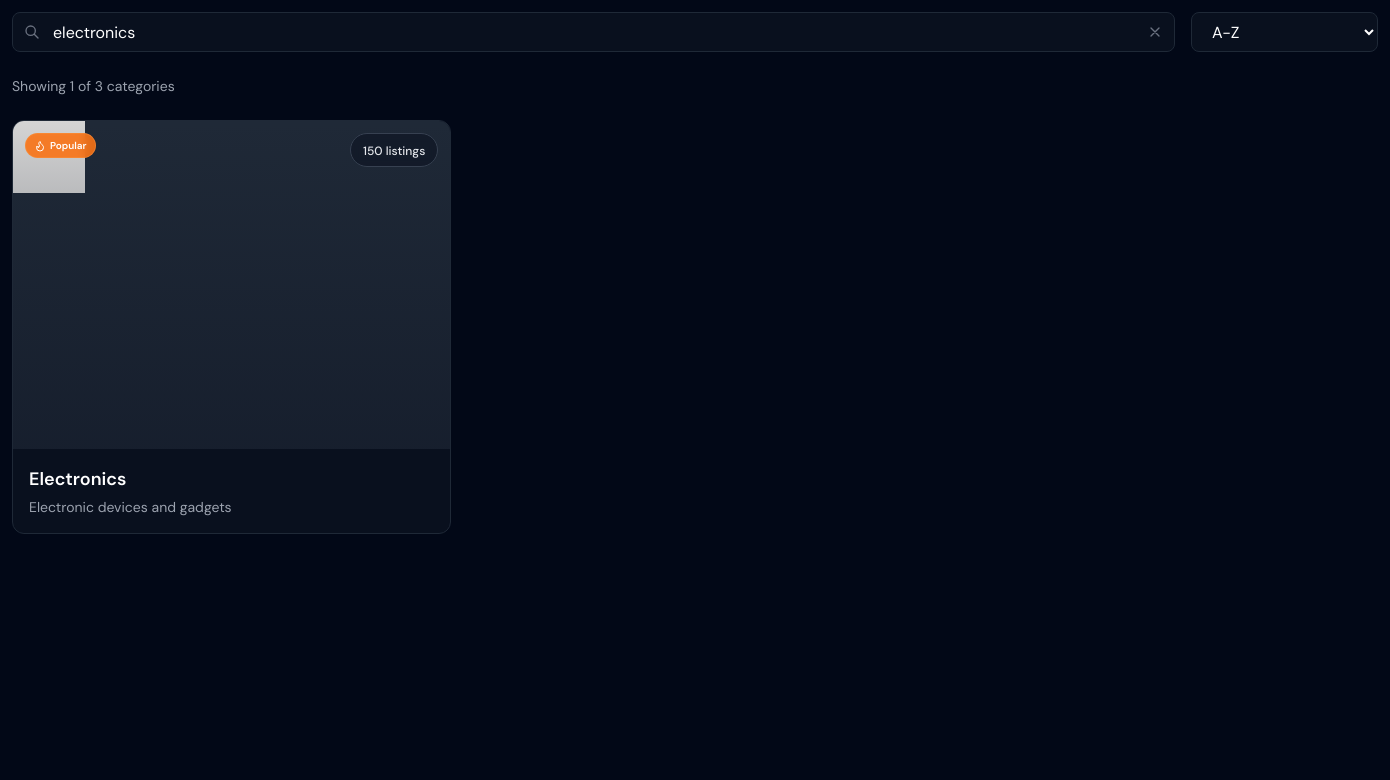
Test: URL State Management Integration Tests › CategoryGrid - Built-in Search and Sort › should clear search and show all categories
Expected: the heading "Electronics" is shown, 29,467 -> 126,491
Expected: the text "Fashion" is not shown
Note: Clear button should be visible
Click the button named "clear search" at (1155, 32), box 1147,24 -> 1163,40
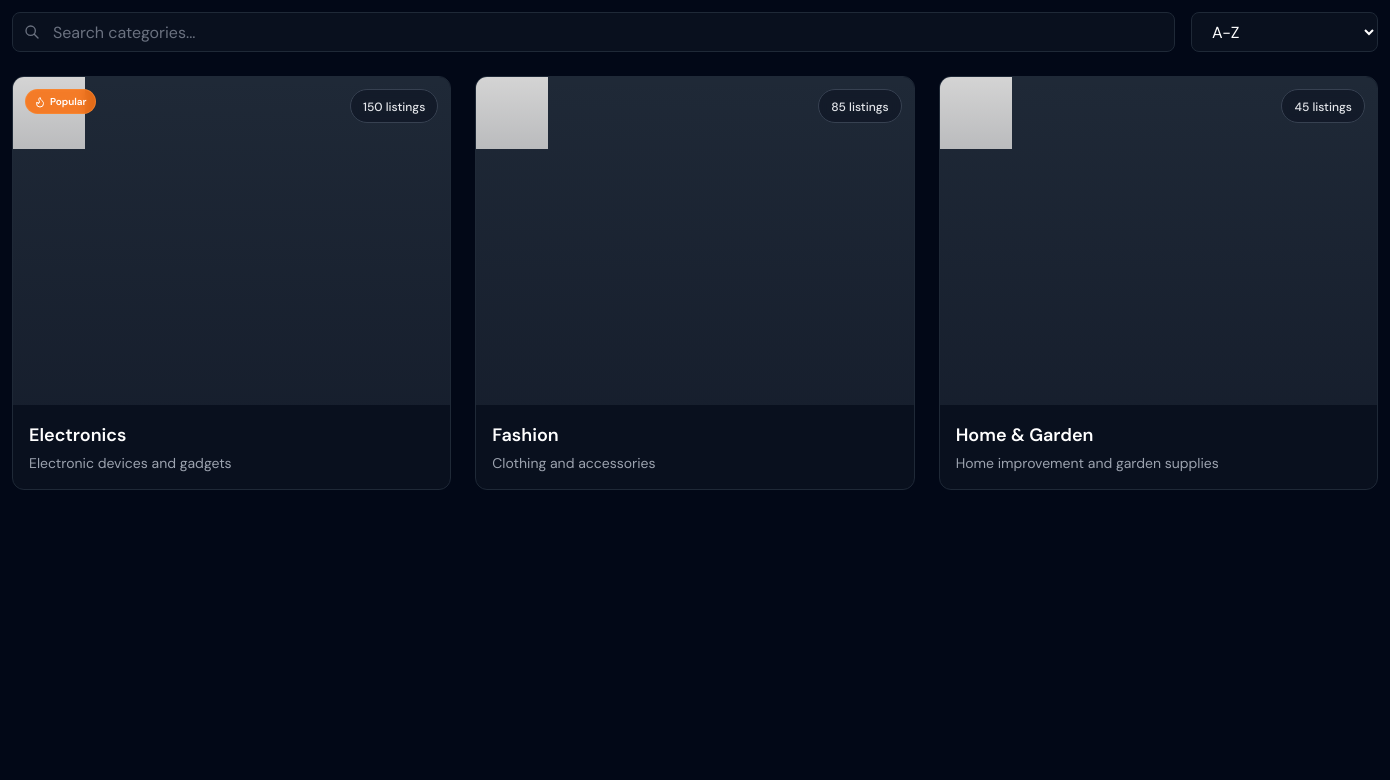
Expected: the heading "Electronics" is shown, 29,423 -> 126,447
Expected: the heading "Fashion" is shown, 492,423 -> 559,447
